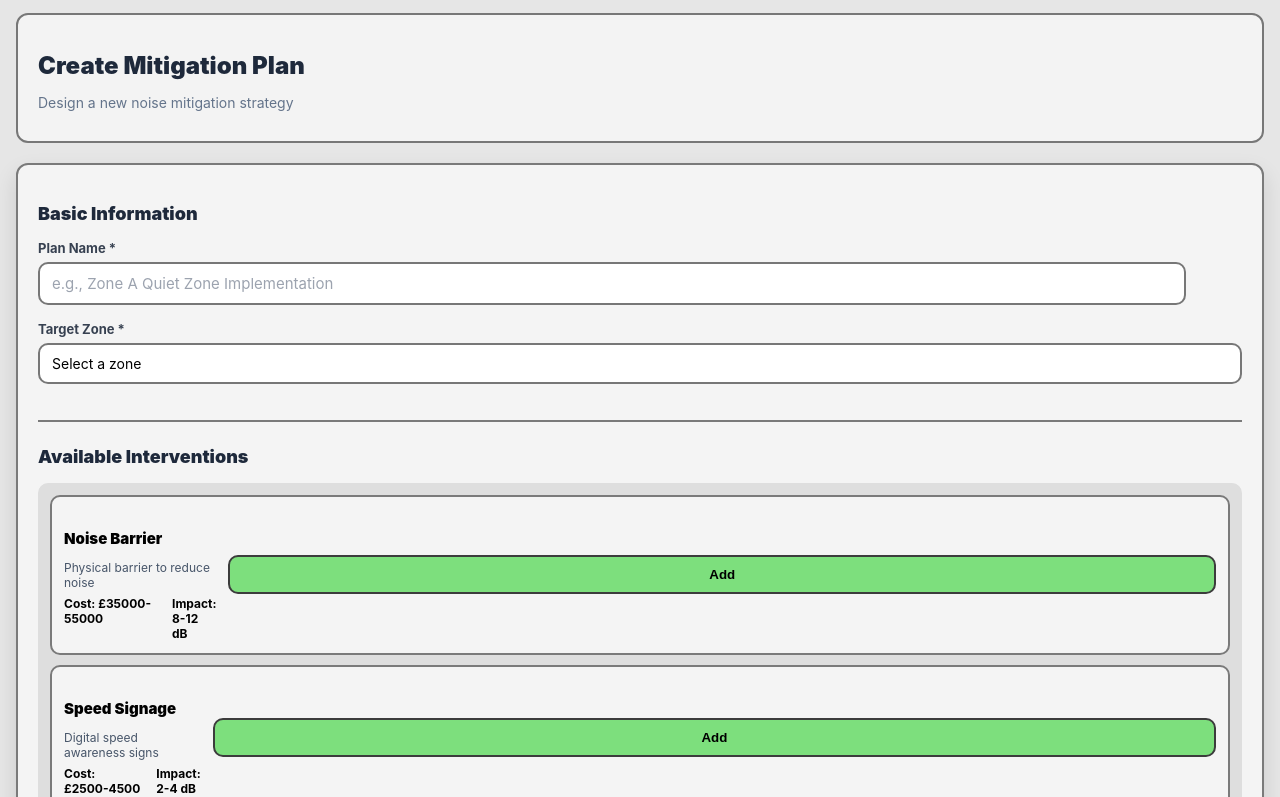
it: PlanBuilder › allows removing interventions from the plan
Click the button "Add" next to "Physical barrier to reduce noise" at (722, 575), box [228, 555, 1216, 594]
(page scrolled)
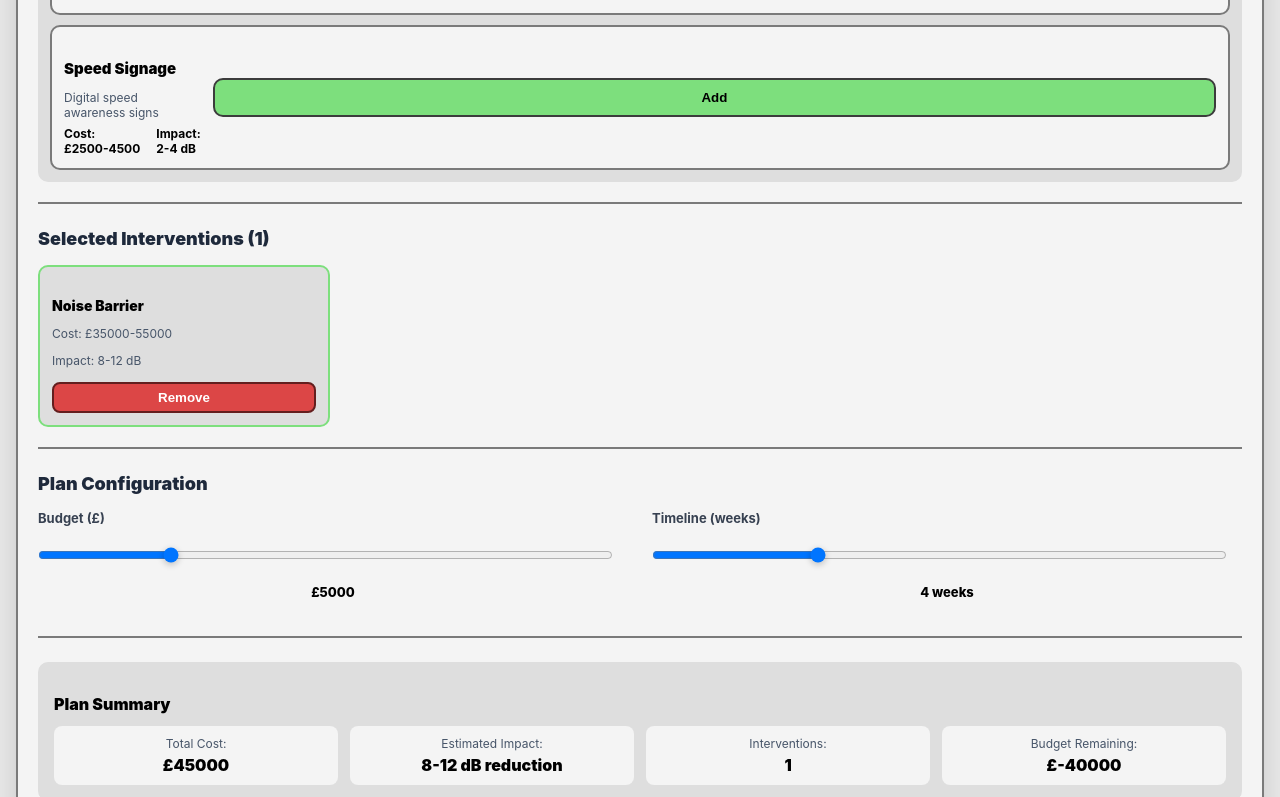
Expected: the button "Remove" is shown
Click the button "Remove" at (184, 398), box [52, 382, 316, 413]
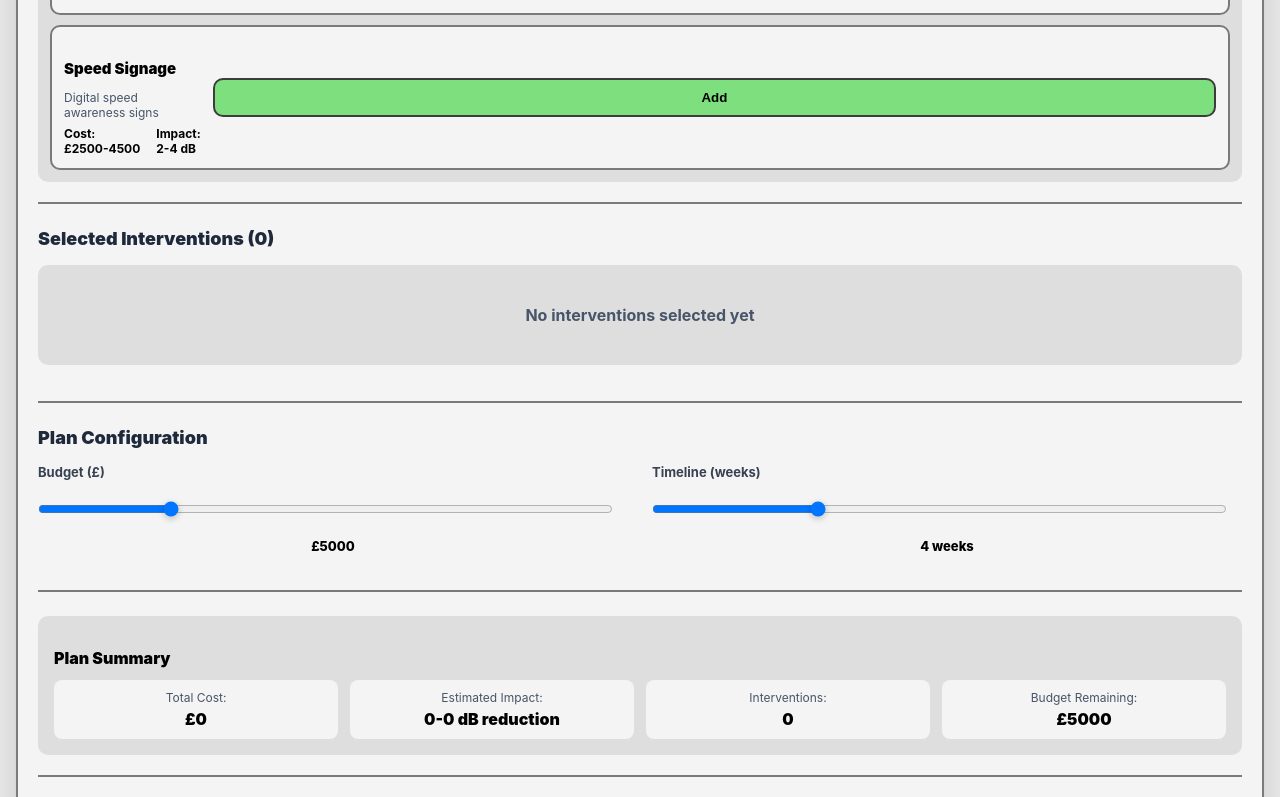
Expected: the text "No interventions selected yet" is shown, [38, 265, 1242, 365]
Expected: the button "Remove" is gone
